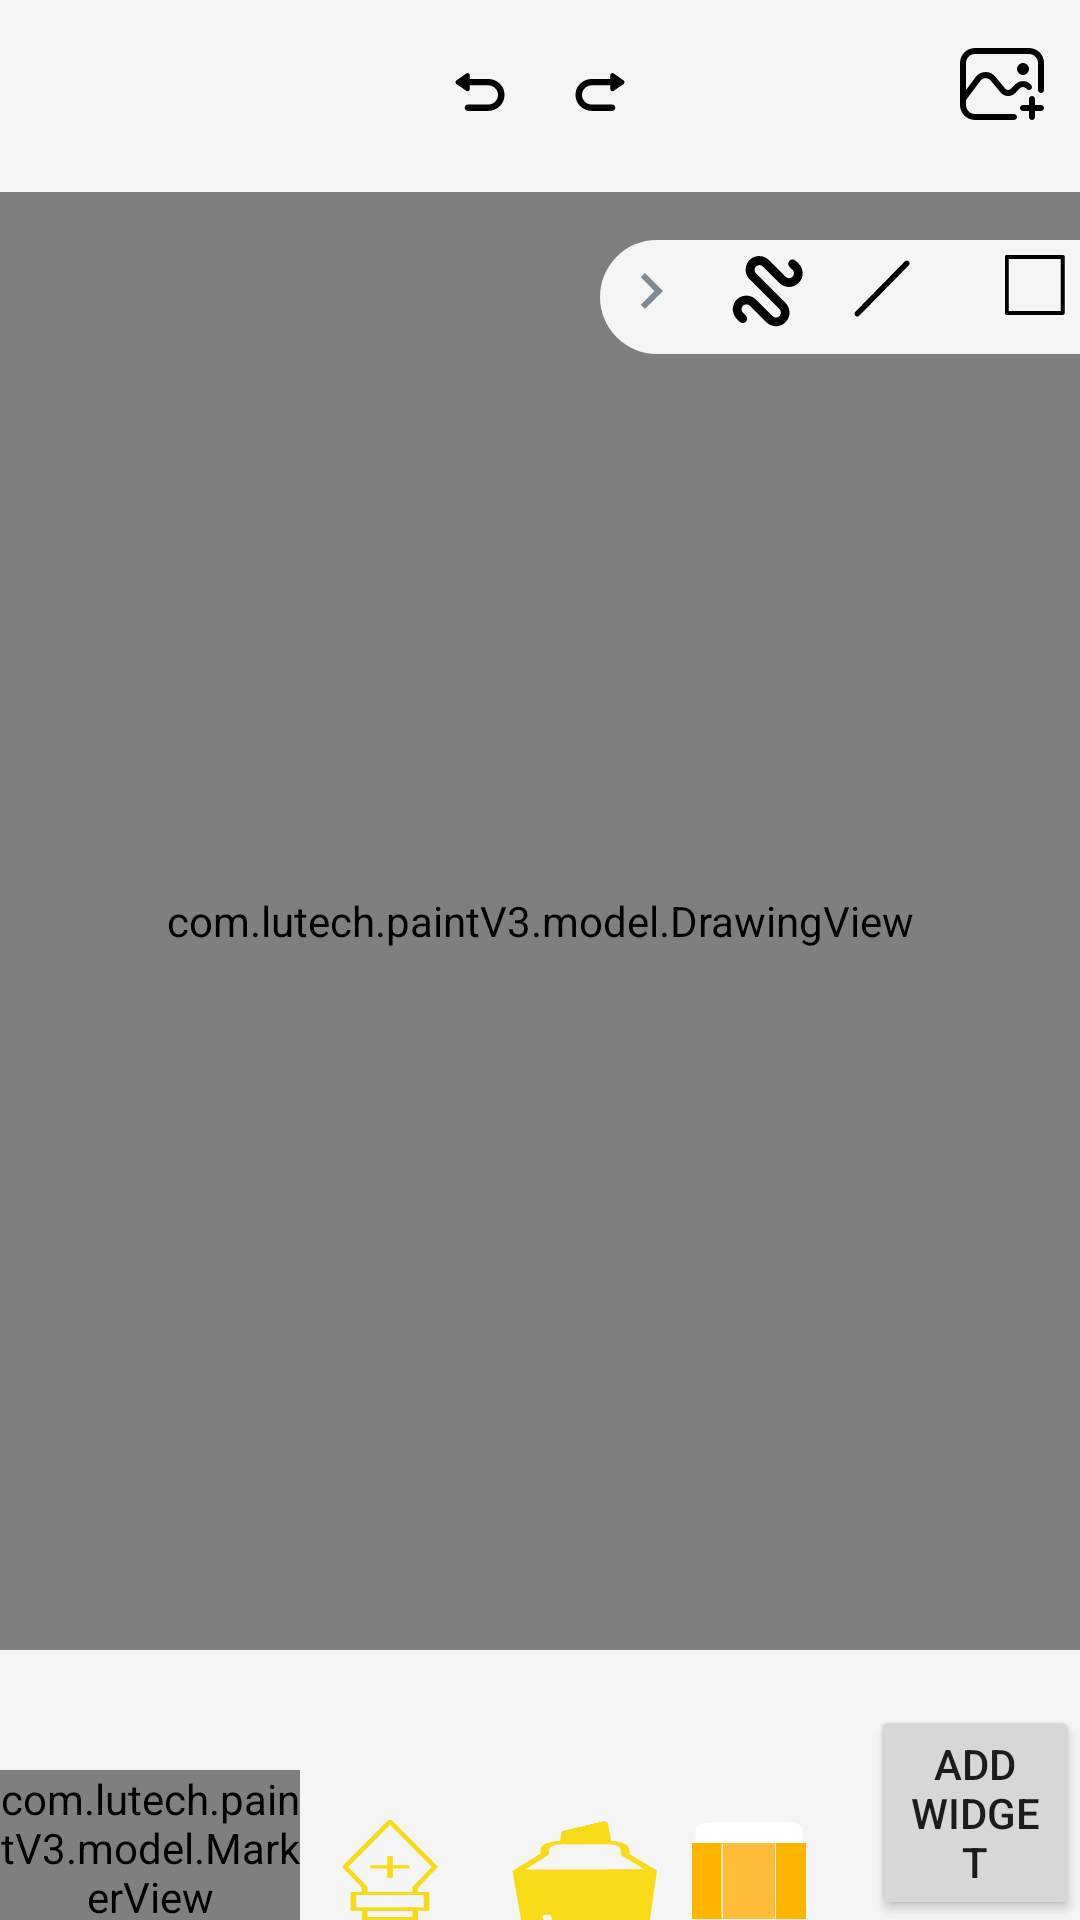

Icons on this 1080px×1920px Android screen, each with the point to tap as (x=x, y=y):
add: (x=1002, y=84)
doodle: (x=767, y=291)
line: (x=882, y=288)
pen: (x=390, y=1870)
redo: (x=600, y=92)
square: (x=1035, y=285)
undo: (x=480, y=92)
